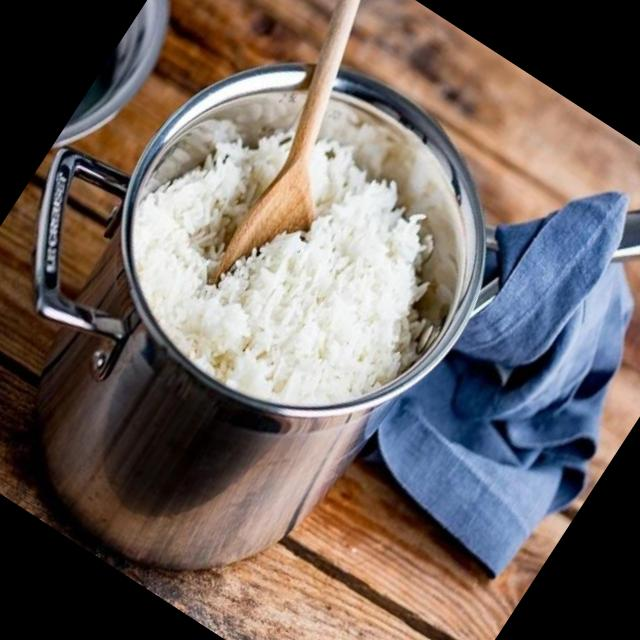rice: (138, 120, 430, 404)
